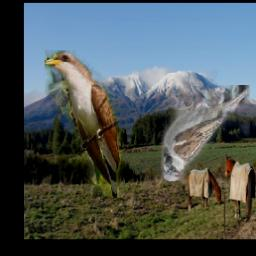Cuckoo: (45, 50, 124, 198)
Sparrow: (161, 85, 250, 181)
